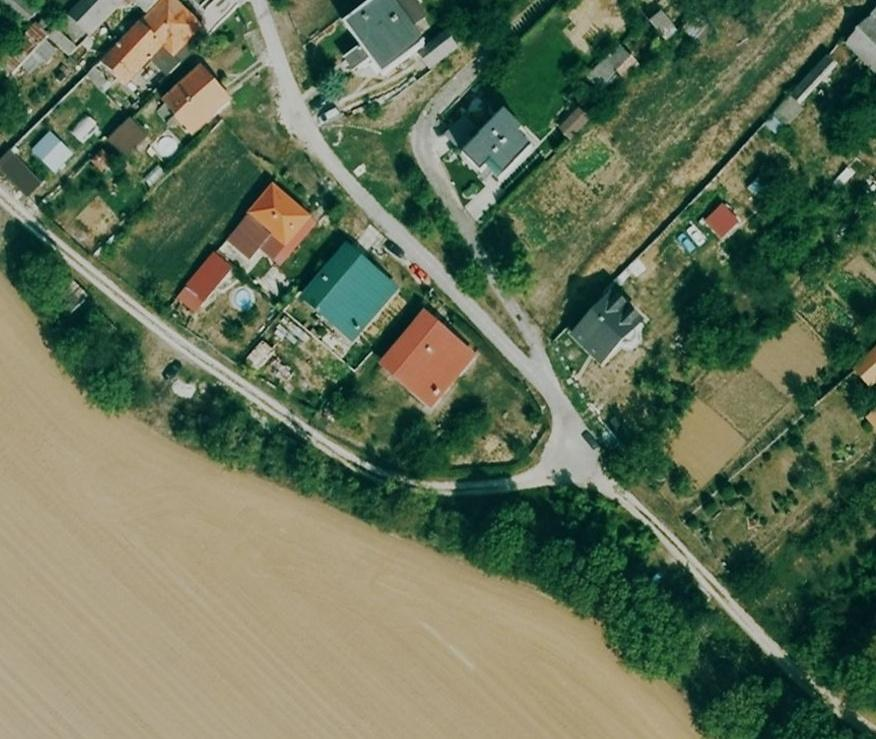field: (0, 275, 695, 737), (587, 0, 840, 269), (501, 152, 623, 326)
forest: (171, 385, 845, 737), (674, 155, 873, 370), (724, 445, 876, 711)
